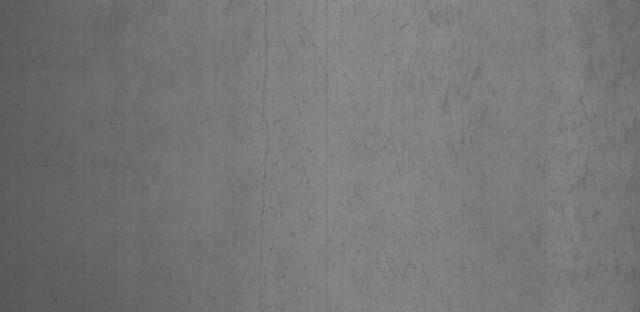silk_spot: (243, 3, 634, 304)
